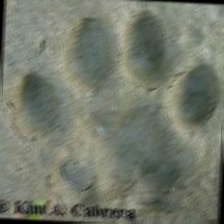cat: (10, 7, 224, 210)
